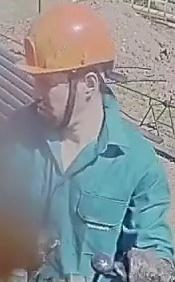gloves: (126, 239, 173, 281)
helmet: (12, 2, 117, 87)
vest: (0, 99, 172, 279)
